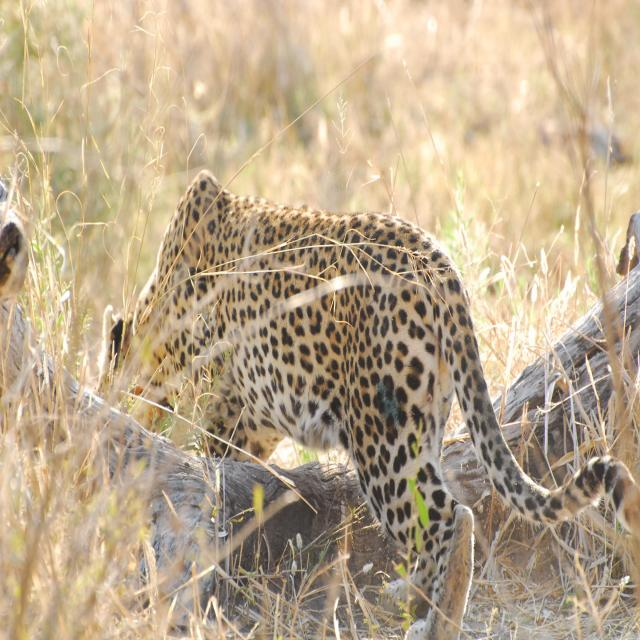Leopard: (86, 173, 598, 640)
